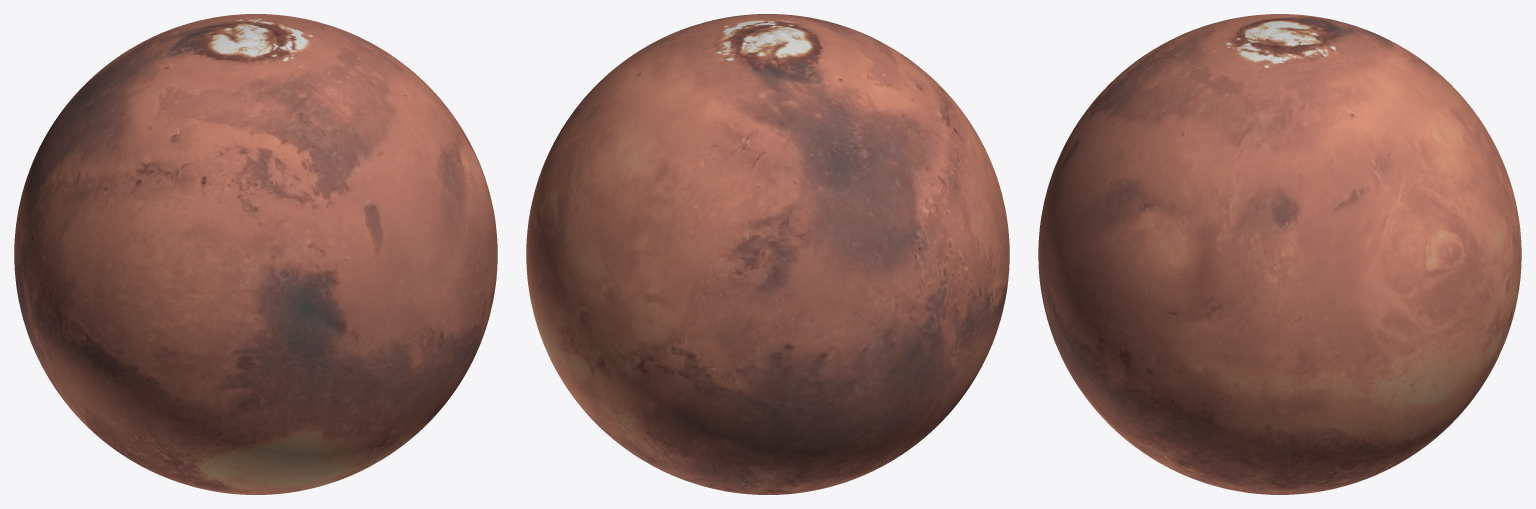
File: mars.glb
3 renders of one model, left to right at view 1: azimuth 30°, elevation 25°; view 2: azimuth 150°, elevation 25°; view 3: azimuth 270°, elevation 25°, orthographic.
Visible parts, largest first — view 1: Body; view 2: Body; view 3: Body.
Boxes of the visible parts, x1=… form: Body: x1=14, y1=14, x2=497, y2=494; Body: x1=526, y1=14, x2=1009, y2=494; Body: x1=1038, y1=14, x2=1521, y2=494.
Size of the model in its own units: 2 by 1.99 by 2.
Materials: 1 (1 with a texture image).
